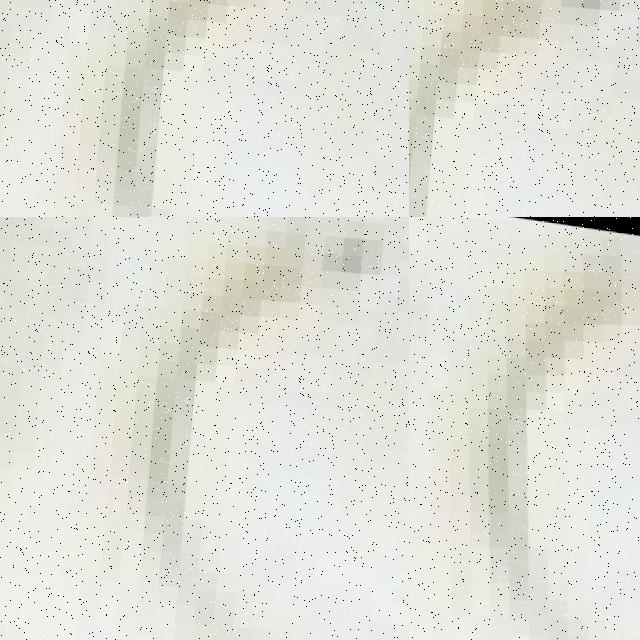drone: (409, 217, 640, 640)
